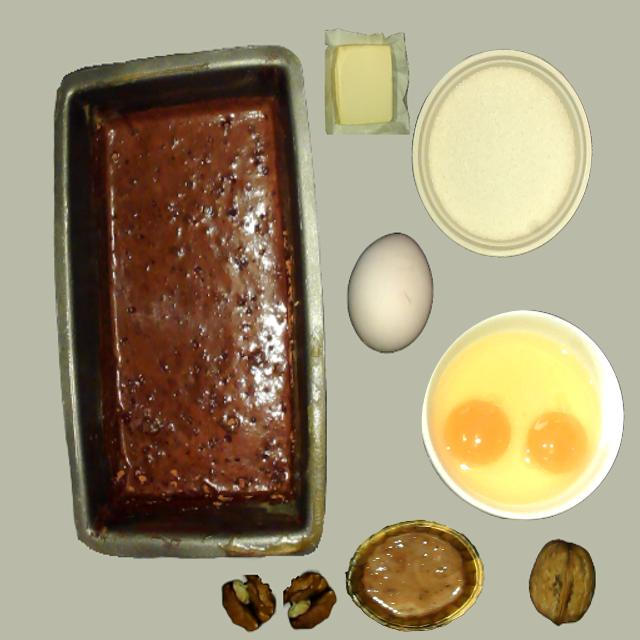Egg: (445, 401, 511, 466), (525, 412, 587, 474)
Sugar: (413, 50, 591, 254)
Walnut: (528, 540, 596, 624)
